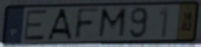1: (158, 7, 171, 39)
9: (128, 6, 150, 40)
A: (46, 7, 75, 41)
E: (23, 8, 49, 42)
F: (73, 7, 102, 42)
M: (96, 7, 129, 41)
